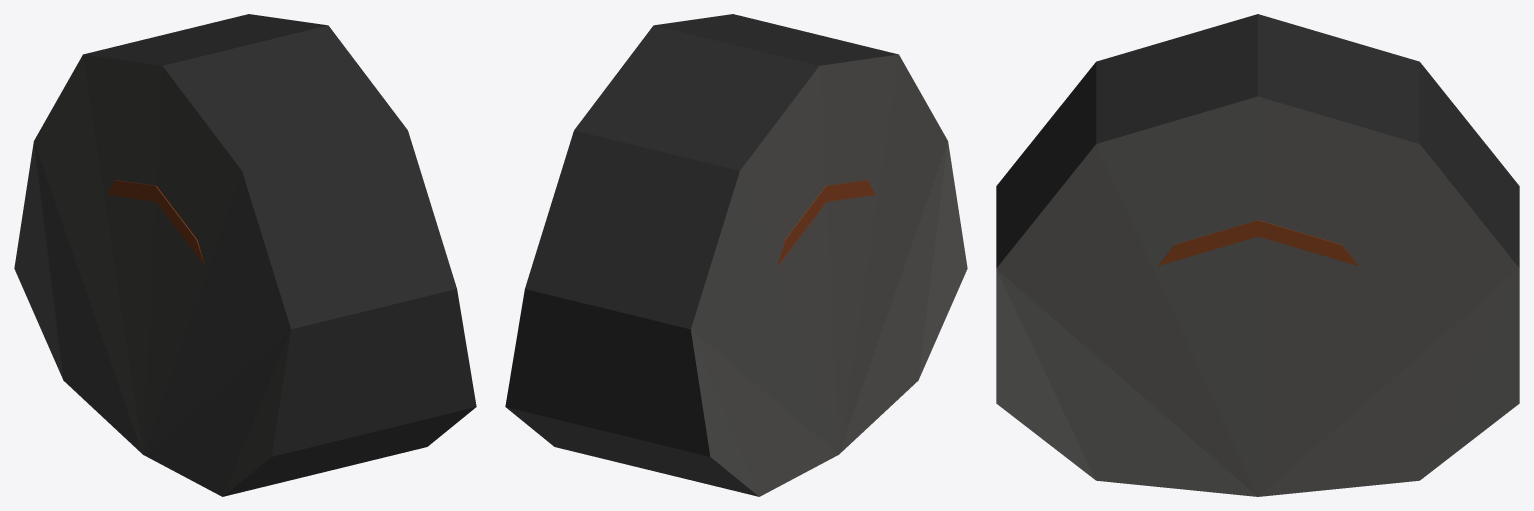
File: Sedan_Wheel_Flat.obj
3 views of the same model, side by side, from view 1: azimuth 30°, elevation 25°; view 2: azimuth 150°, elevation 25°; view 3: azimuth 270°, elevation 25° (orthographic).
Visible parts, largest first — view 1: Wheel_Flat_Wheel_Flat; view 2: Wheel_Flat_Wheel_Flat; view 3: Wheel_Flat_Wheel_Flat.
Boxes of the visible parts, <box> form: Wheel_Flat_Wheel_Flat: <box>14,14,476,496</box>; Wheel_Flat_Wheel_Flat: <box>505,14,967,496</box>; Wheel_Flat_Wheel_Flat: <box>996,14,1519,496</box>.
Bounding box in the file's own units: 1.05 × 1.88 × 2.28.
